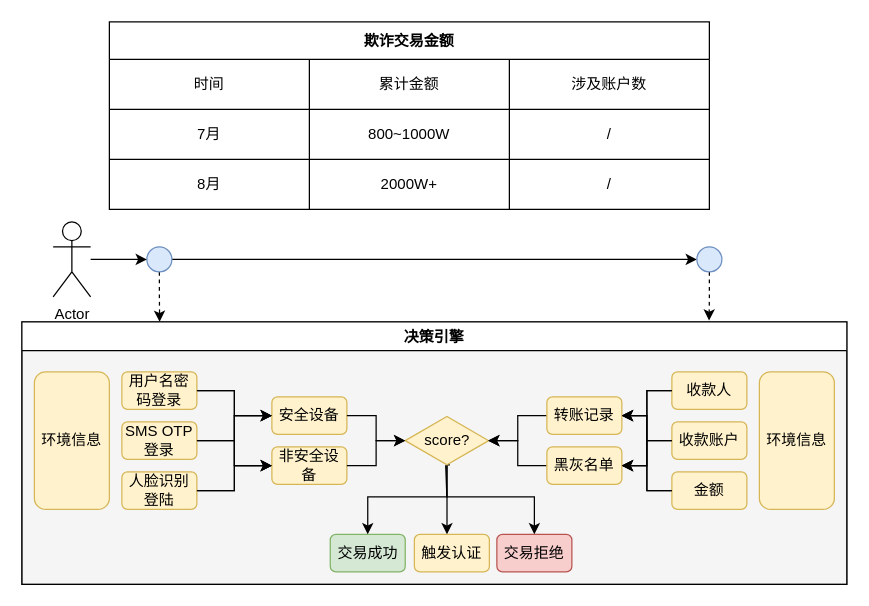
The diagram is 869 pixels wide and 606 high, and some of its shapes have lost their labels. Each missing label, with the centre of its shape:
"登录" belongs at (x=159, y=259).
"转账" belongs at (x=709, y=259).
